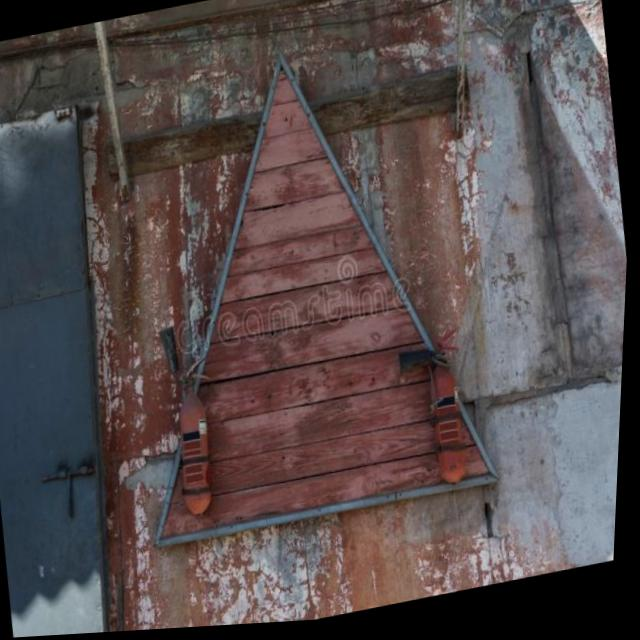FireExtinguisher: (149, 315, 240, 528), (391, 331, 484, 502)
